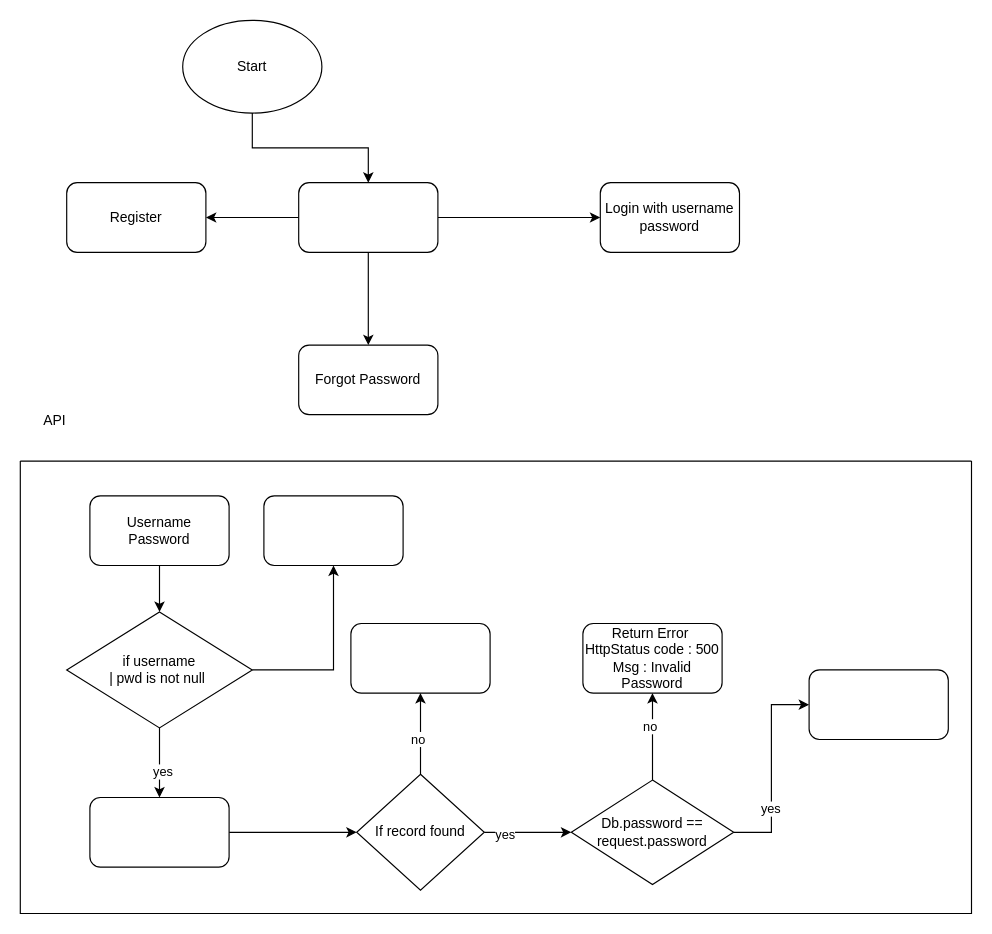
Image size: 992x934. Some labels were removed from this diagram. Here are the shapes that lost their labels. From the top down, the centre of each, then its label:
the point at 368,217: Login Page
the point at 333,530: Return Error HttpStatus code : 400 Msg : Bad request
the point at 420,657: Return Error HttpStatus code : 404 Msg : user not found
the point at 878,704: Return Success http code:200 return user profile
the point at 159,831: Check db with username
